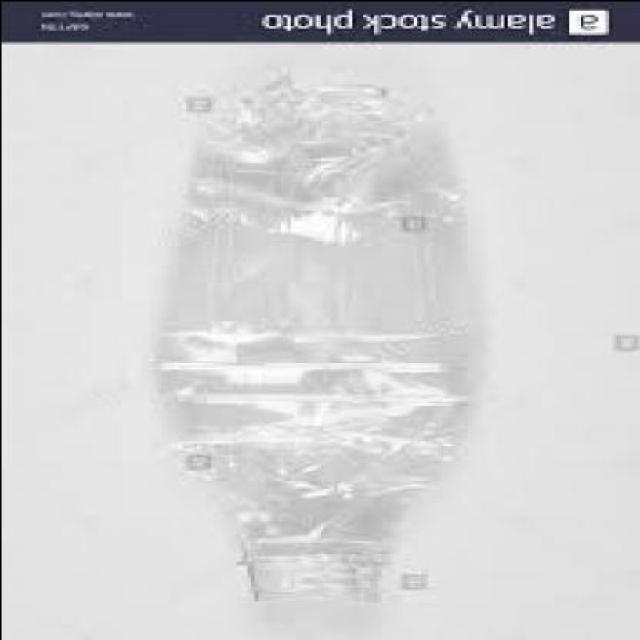PLASTIC: (156, 75, 462, 601)
